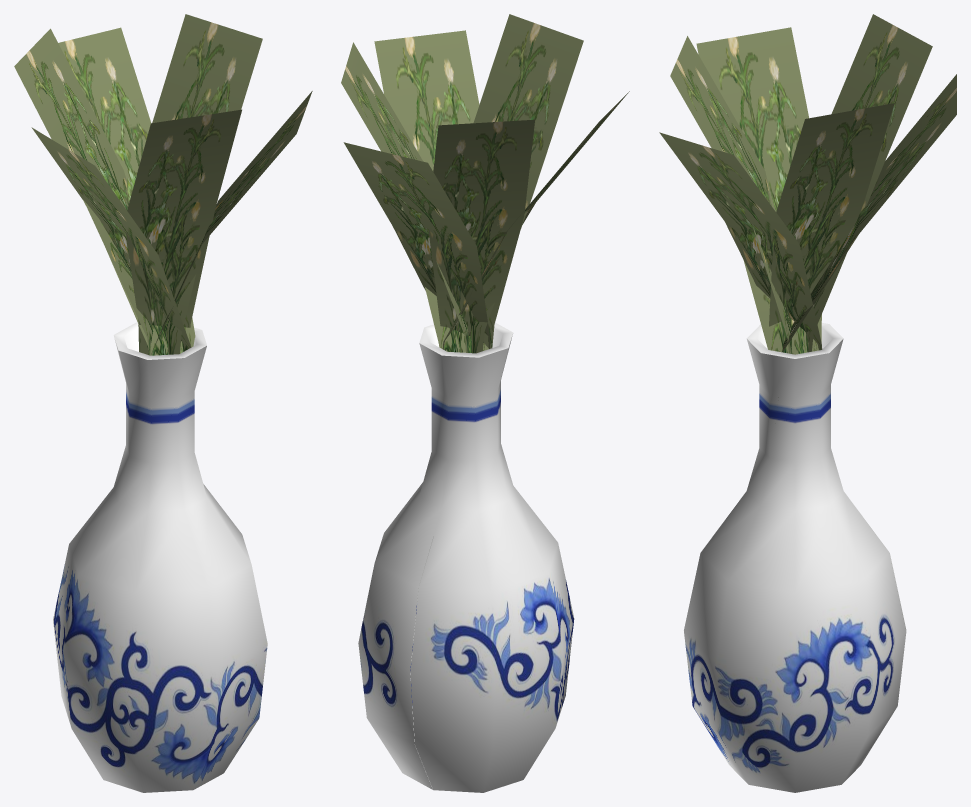
Rendered from Pot_3.FBX.
3 renders of one model, left to right at view 1: azimuth 30°, elevation 25°; view 2: azimuth 150°, elevation 25°; view 3: azimuth 270°, elevation 25°, orthographic.
Visible parts, largest first — view 1: 对象016; view 2: 对象016; view 3: 对象016.
Boxes of the visible parts, x1,y1,x2,y2 form: 对象016: [14, 14, 312, 792]; 对象016: [341, 14, 629, 792]; 对象016: [659, 14, 956, 792].
Size of the model in its own units: 0.3224 by 0.8488 by 0.3278.
